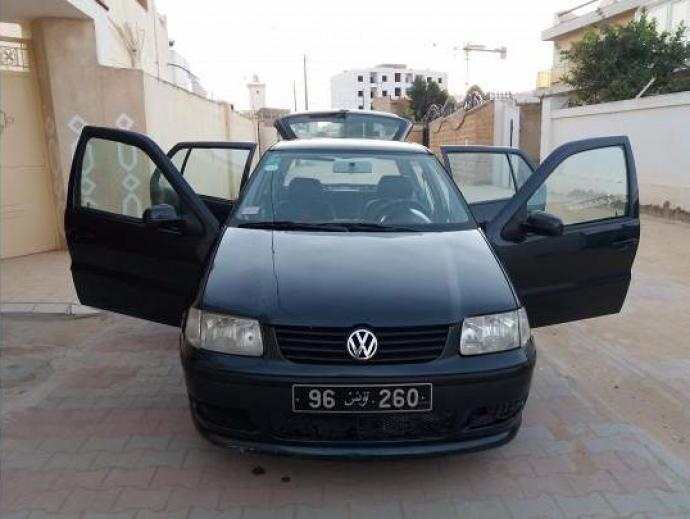LP: (289, 383, 435, 415)
